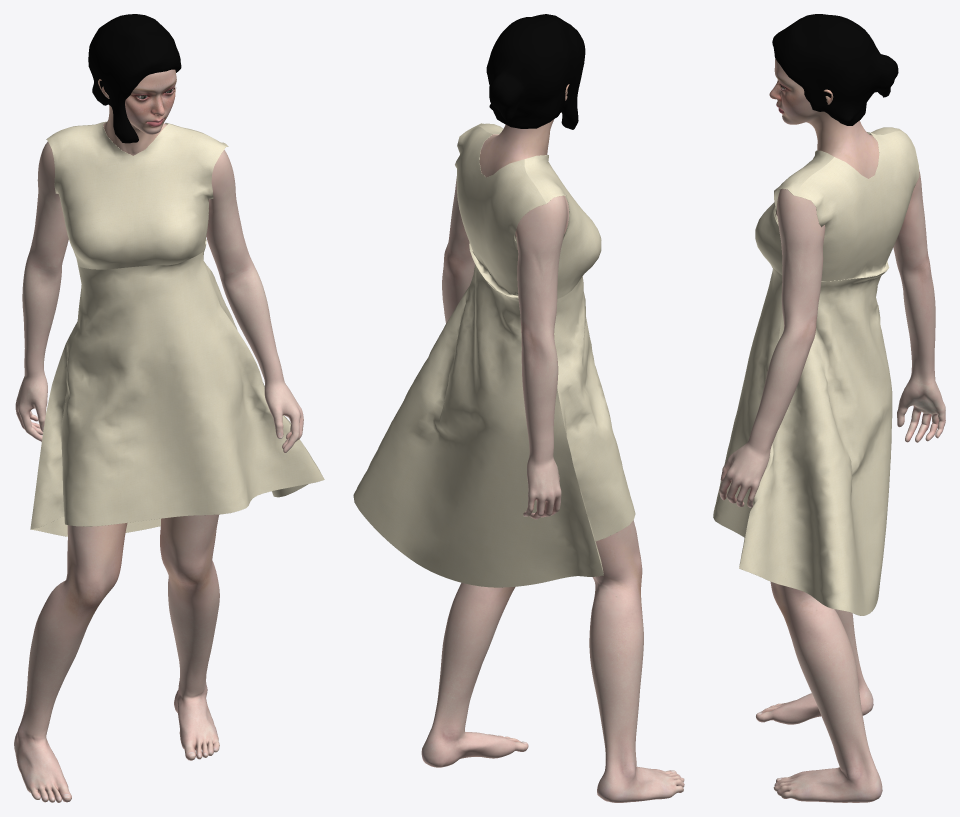
Rendered from random.obj.
3 views of the same model, side by side, from view 1: azimuth 30°, elevation 25°; view 2: azimuth 150°, elevation 25°; view 3: azimuth 270°, elevation 25° (orthographic). The views are drawn at different scales.
Size of the model in its own units: 715 by 1724 by 483.
